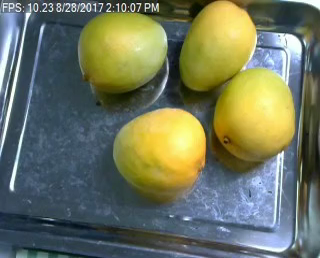Mango: (112, 108, 206, 192), (215, 68, 295, 161), (77, 13, 166, 94), (178, 0, 255, 91)
